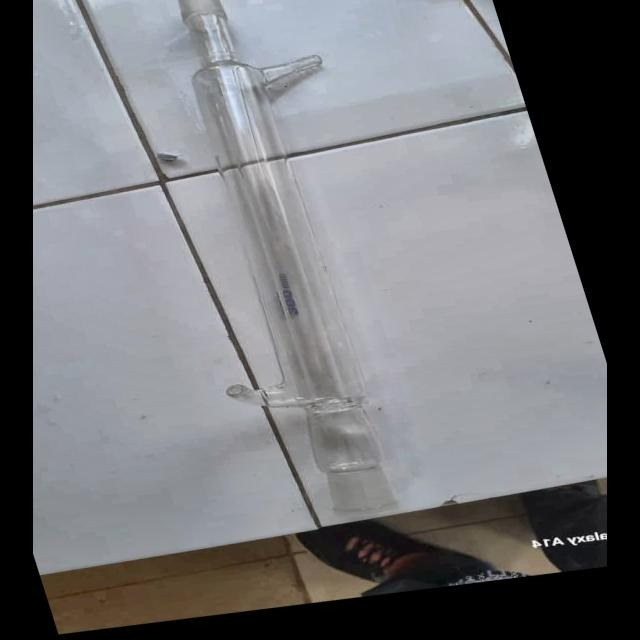Distillation: (84, 0, 484, 537)
